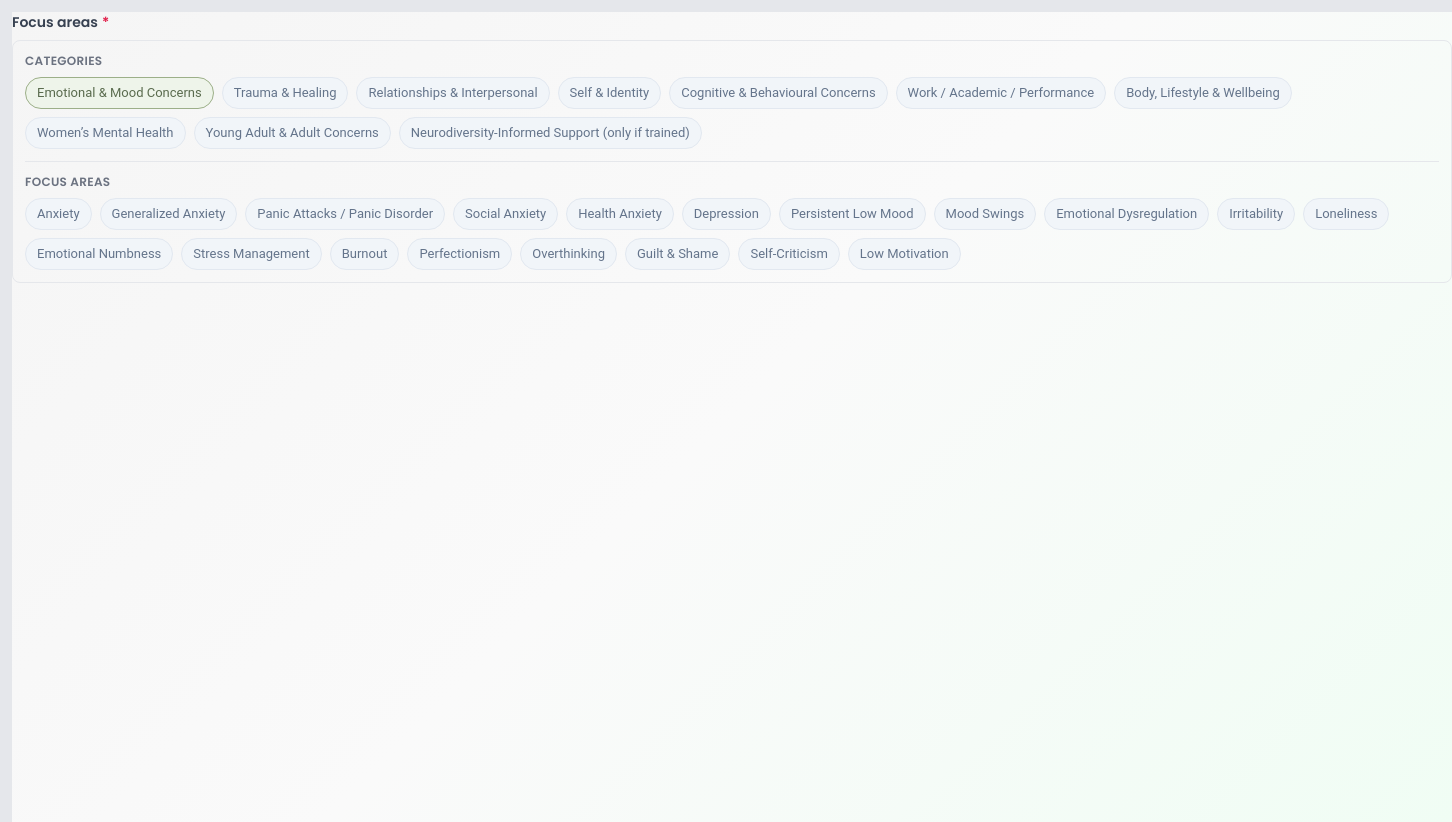
FocusAreasPicker › shows a count indicator on a category that has selected options
What coordinates should you click on to do the following:
click the button "Anxiety"
I would click on:
 (58, 214)
Its box is top-left (25, 198), bottom-right (92, 230).
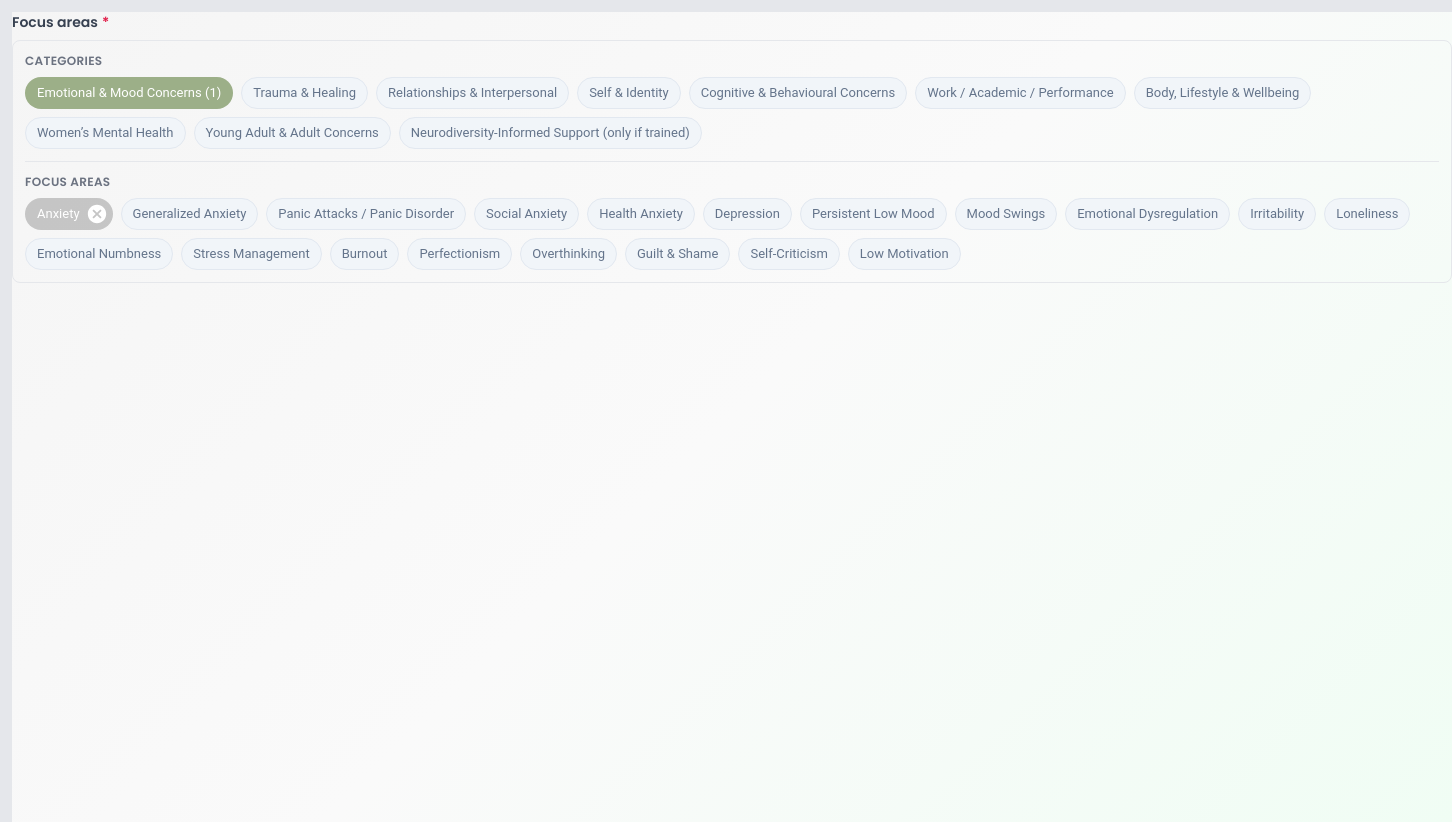
What coordinates should you click on to do the following:
click the button "Mood Swings"
I would click on:
 (1006, 214)
Its box is top-left (955, 198), bottom-right (1057, 230).
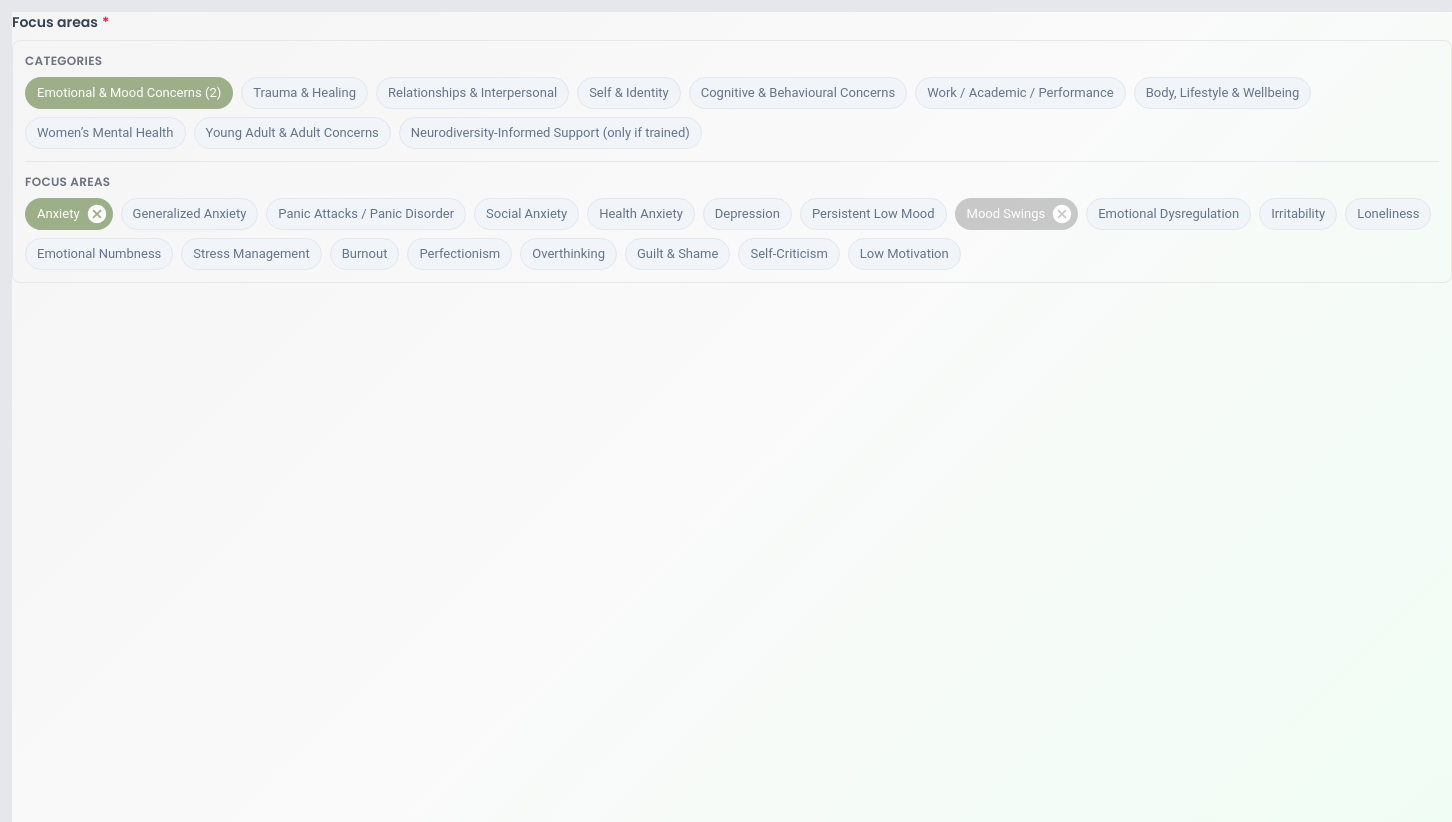
Result: the button "Emotional & Mood Concerns (2)" is shown at top-left (25, 77), bottom-right (233, 109)
